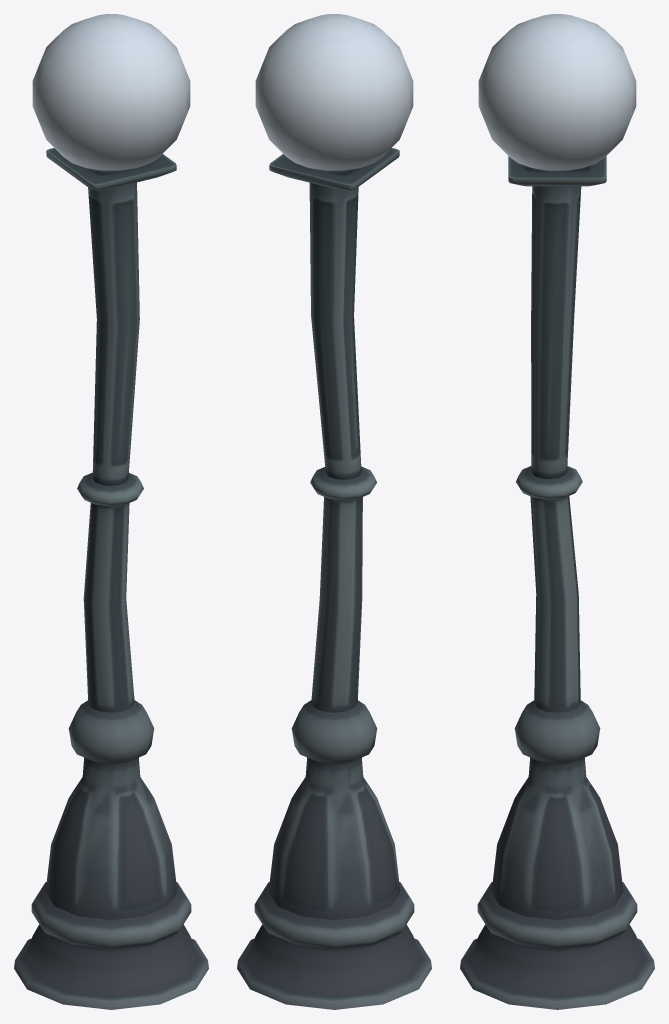
Rendered from StreetLamp01_2.FBX.
3 views of the same model, side by side, from view 1: azimuth 30°, elevation 25°; view 2: azimuth 150°, elevation 25°; view 3: azimuth 270°, elevation 25° (orthographic).
Parts seen in each view (by area): view 1: StreetLamp01_2; view 2: StreetLamp01_2; view 3: StreetLamp01_2.
Part boxes in pixels (x1=…): StreetLamp01_2: x1=14, y1=14, x2=208, y2=1009; StreetLamp01_2: x1=237, y1=14, x2=431, y2=1009; StreetLamp01_2: x1=460, y1=14, x2=654, y2=1009.
Size of what is drawn, in the model's own units: 0.4923 by 2.64 by 0.4923.
